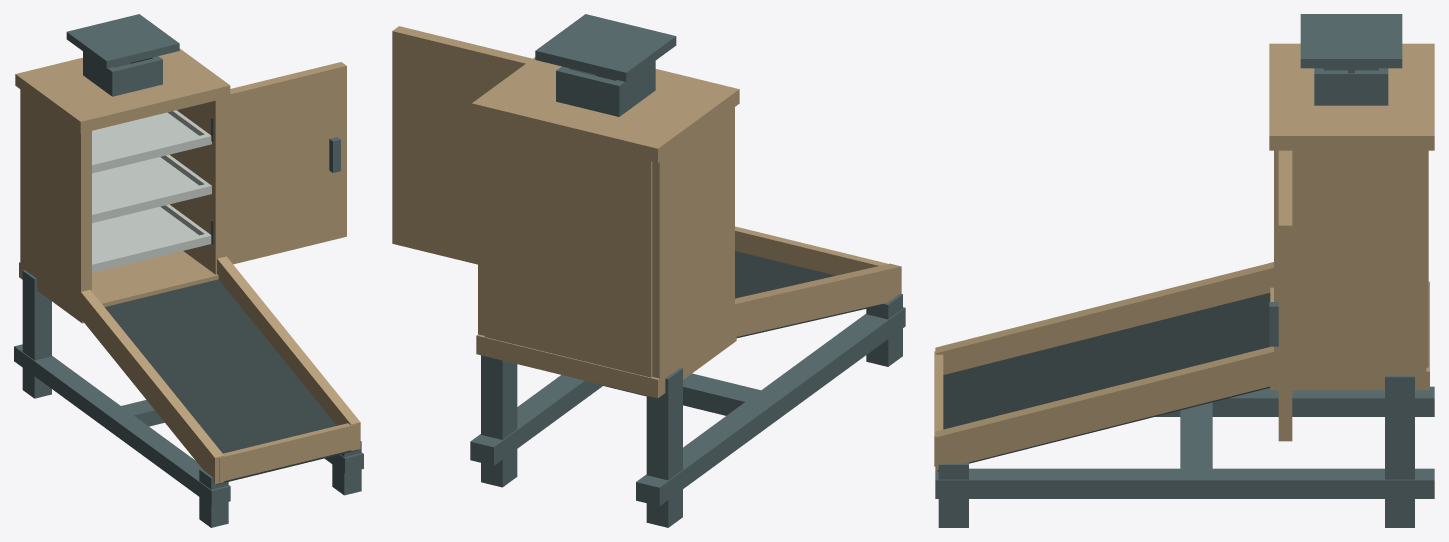
3 views of the same model, side by side, from view 1: azimuth 30°, elevation 25°; view 2: azimuth 150°, elevation 25°; view 3: azimuth 270°, elevation 25° (orthographic). The views are drawn at different scales.
Visible parts, largest first — view 1: WholeFixedFullyOpenCabinetDoor, WholeInclinedDarkCollectorFloor, WholeCabinetSide0, WholeRoofWithTrueVentOpening, WholeOpenHPlanCommonStand, WholeInclinedCollectorSide0, WholeCabinetSide1, WholeEmptyRecessedTray1, WholeEmptyRecessedTray0, WholeCabinetBottom, WholeEmptyRecessedTray2, WholeInclinedCollectorSide1 (+7 smaller); view 2: WholeCabinetBack, WholeFixedFullyOpenCabinetDoor, WholeCabinetSide0, WholeOpenHPlanCommonStand, WholeRoofWithTrueVentOpening, WholeInclinedCollectorSide0, WholeRaisedVentCap, WholeCabinetBottom, WholeStandLeg2, WholeStandLeg3, WholeOpenSquareVentStack, WholeCollectorLowFrontLip (+3 smaller); view 3: WholeCabinetSide1, WholeOpenHPlanCommonStand, WholeInclinedDarkCollectorFloor, WholeInclinedCollectorSide1, WholeRoofWithTrueVentOpening, WholeInclinedCollectorSide0, WholeRaisedVentCap, WholeFixedFullyOpenCabinetDoor, WholeStandLeg3, WholeOpenSquareVentStack, WholeCabinetBottom, WholeStandLeg1 (+2 smaller).
Part boxes in pixels (x1=…): WholeFixedFullyOpenCabinetDoor: x1=226, y1=62, x2=346, y2=264; WholeInclinedDarkCollectorFloor: x1=104, y1=279, x2=357, y2=484; WholeCabinetSide0: x1=20, y1=89, x2=91, y2=302; WholeRoofWithTrueVentOpening: x1=15, y1=48, x2=230, y2=133; WholeOpenHPlanCommonStand: x1=14, y1=344, x2=363, y2=505; WholeInclinedCollectorSide0: x1=74, y1=284, x2=224, y2=484; WholeCabinetSide1: x1=170, y1=98, x2=226, y2=274; WholeEmptyRecessedTray1: x1=92, y1=154, x2=211, y2=223; WholeEmptyRecessedTray0: x1=92, y1=204, x2=211, y2=272; WholeCabinetBottom: x1=19, y1=251, x2=218, y2=323; WholeEmptyRecessedTray2: x1=92, y1=110, x2=211, y2=173; WholeInclinedCollectorSide1: x1=217, y1=256, x2=360, y2=450; WholeCabinetBack: x1=484, y1=121, x2=652, y2=377; WholeFixedFullyOpenCabinetDoor: x1=392, y1=26, x2=532, y2=264; WholeCabinetSide0: x1=652, y1=107, x2=734, y2=384; WholeOpenHPlanCommonStand: x1=470, y1=307, x2=905, y2=506; WholeRoofWithTrueVentOpening: x1=471, y1=57, x2=739, y2=162; WholeInclinedCollectorSide0: x1=735, y1=263, x2=901, y2=336; WholeRaisedVentCap: x1=535, y1=14, x2=676, y2=81; WholeCabinetBottom: x1=476, y1=322, x2=736, y2=398; WholeStandLeg2: x1=646, y1=368, x2=682, y2=527; WholeStandLeg3: x1=481, y1=355, x2=517, y2=487; WholeOpenSquareVentStack: x1=556, y1=61, x2=655, y2=116; WholeCollectorLowFrontLip: x1=735, y1=226, x2=887, y2=275; WholeCabinetSide1: x1=1274, y1=150, x2=1426, y2=379; WholeOpenHPlanCommonStand: x1=935, y1=386, x2=1434, y2=498; WholeInclinedDarkCollectorFloor: x1=937, y1=293, x2=1270, y2=471; WholeInclinedCollectorSide1: x1=935, y1=346, x2=1278, y2=470; WholeRoofWithTrueVentOpening: x1=1269, y1=43, x2=1434, y2=150; WholeInclinedCollectorSide0: x1=935, y1=262, x2=1273, y2=374; WholeRaisedVentCap: x1=1300, y1=14, x2=1402, y2=68; WholeFixedFullyOpenCabinetDoor: x1=1278, y1=150, x2=1292, y2=441; WholeStandLeg3: x1=1385, y1=375, x2=1414, y2=527; WholeOpenSquareVentStack: x1=1314, y1=68, x2=1388, y2=105; WholeCabinetBottom: x1=1270, y1=281, x2=1429, y2=390; WholeStandLeg1: x1=938, y1=462, x2=968, y2=527.
Size of the model in its own units: 1.71 by 2.12 by 2.16.
